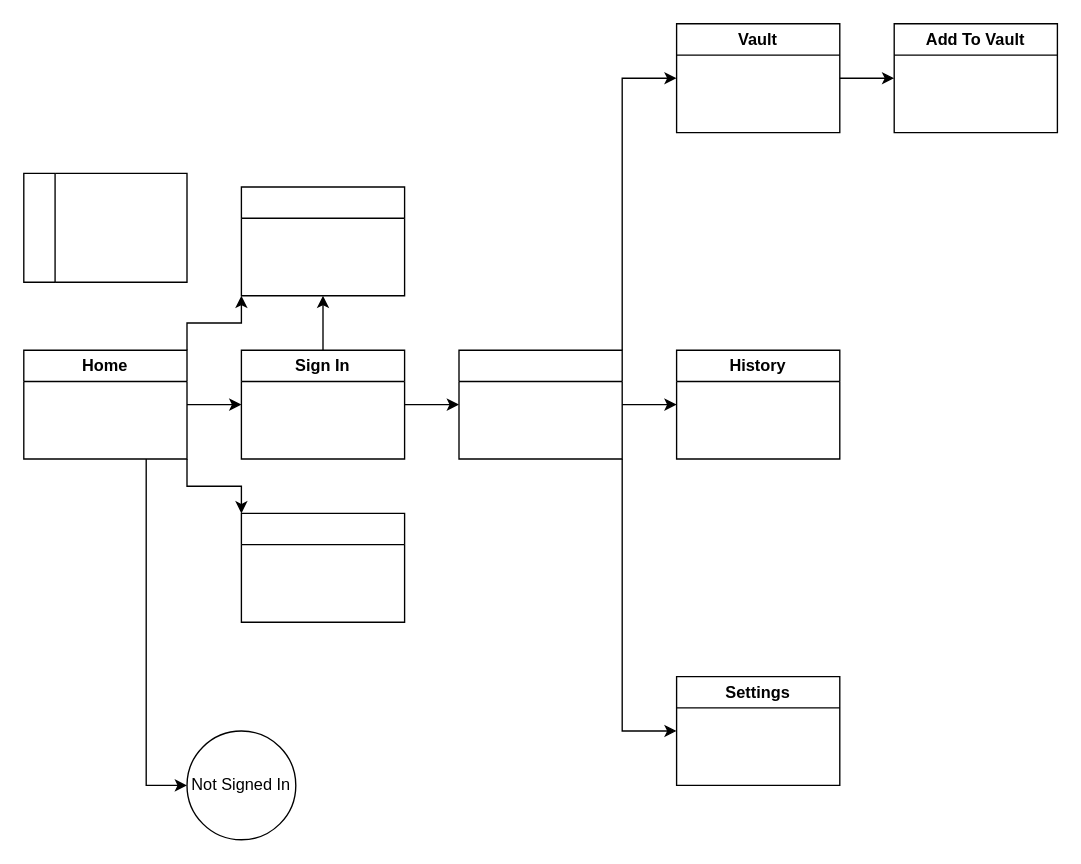
Image size: 1081x864. Some labels were removed from this diagram. The shapes that lost their labels are listed below. From the top down, each one's centre as x and y in pixels, then its label:
At (x=104, y=227): "TBD".
At (x=322, y=241): "Sign Up".
At (x=540, y=404): "Dashboard".
At (x=322, y=567): "Contact".
